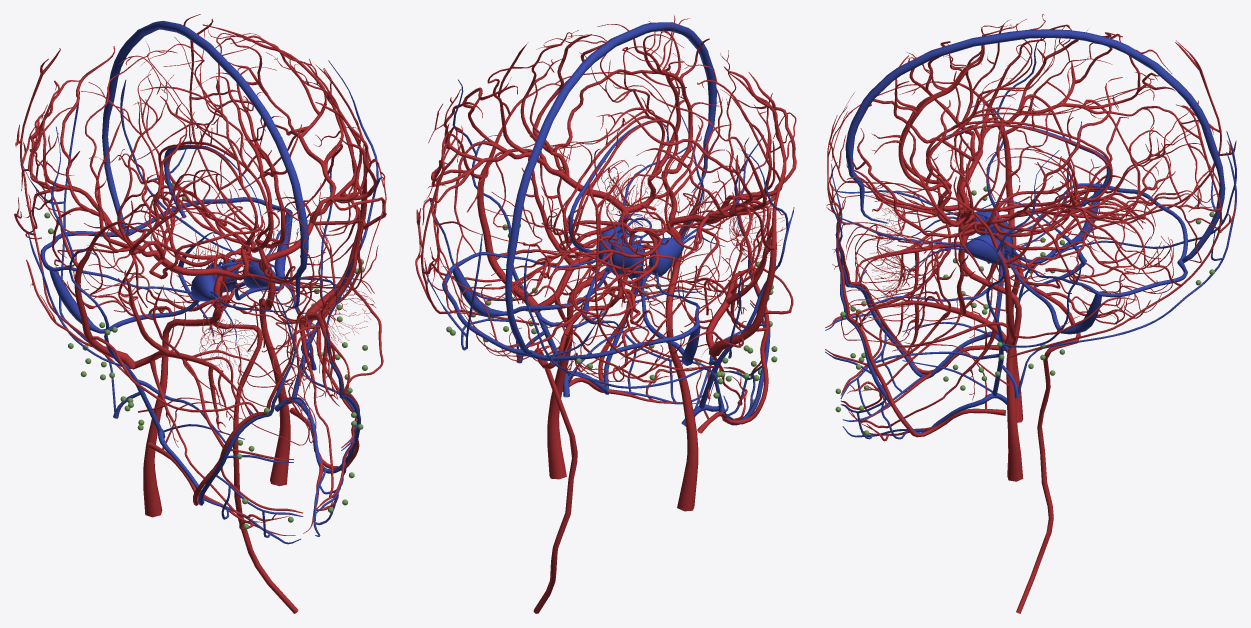
The model's file is vessels-head.glb.
3 renders of one model, left to right at view 1: azimuth 30°, elevation 25°; view 2: azimuth 150°, elevation 25°; view 3: azimuth 270°, elevation 25°, orthographic. The views are drawn at different scales.
Parts seen in each view (by area): view 1: vessel-superior-sagittal-sinus, vessel-superficial-temporal-artery-r, vessel-internal-carotid-artery-r, vessel-internal-carotid-artery-l, vessel-vertebral-artery-l, vessel-pericallosal-artery-r, vessel-posterior-cerebral-artery-r, vessel-superficial-temporal-artery-l, vessel-pericallosal-artery-l, vessel-posterior-cerebral-artery-l, vessel-occipital-artery-r, vessel-occipital-artery-l (+41 smaller); view 2: vessel-superior-sagittal-sinus, vessel-superficial-temporal-artery-r, vessel-internal-carotid-artery-r, vessel-superficial-temporal-artery-l, vessel-vertebral-artery-l, vessel-internal-carotid-artery-l, vessel-pericallosal-artery-r, vessel-posterior-cerebral-artery-r, vessel-pericallosal-artery-l, vessel-occipital-artery-r, vessel-posterior-cerebral-artery-l, vessel-occipital-artery-l (+39 smaller); view 3: vessel-superior-sagittal-sinus, vessel-superficial-temporal-artery-l, vessel-internal-carotid-artery-l, vessel-vertebral-artery-l, vessel-pericallosal-artery-l, vessel-superficial-temporal-artery-r, vessel-pericallosal-artery-r, vessel-posterior-cerebral-artery-l, vessel-occipital-artery-l, vessel-posterior-cerebral-artery-r, vessel-callosomarginal-artery-l, vessel-occipital-artery-r (+25 smaller).
Part boxes in pixels (x1=…): vessel-superior-sagittal-sinus: x1=102, y1=20, x2=308, y2=308; vessel-superficial-temporal-artery-r: x1=25, y1=108, x2=172, y2=368; vessel-internal-carotid-artery-r: x1=143, y1=276, x2=223, y2=517; vessel-internal-carotid-artery-l: x1=259, y1=267, x2=290, y2=486; vessel-vertebral-artery-l: x1=211, y1=301, x2=298, y2=613; vessel-pericallosal-artery-r: x1=118, y1=37, x2=257, y2=244; vessel-posterior-cerebral-artery-r: x1=84, y1=173, x2=227, y2=302; vessel-superficial-temporal-artery-l: x1=275, y1=59, x2=383, y2=325; vessel-pericallosal-artery-l: x1=147, y1=29, x2=269, y2=239; vessel-posterior-cerebral-artery-l: x1=192, y1=169, x2=325, y2=263; vessel-occipital-artery-r: x1=14, y1=48, x2=128, y2=377; vessel-occipital-artery-l: x1=160, y1=14, x2=306, y2=339; vessel-superior-sagittal-sinus: x1=505, y1=22, x2=716, y2=355; vessel-superficial-temporal-artery-r: x1=683, y1=89, x2=793, y2=356; vessel-internal-carotid-artery-r: x1=666, y1=226, x2=698, y2=511; vessel-superficial-temporal-artery-l: x1=424, y1=42, x2=560, y2=312; vessel-vertebral-artery-l: x1=533, y1=295, x2=621, y2=613; vessel-internal-carotid-artery-l: x1=547, y1=218, x2=629, y2=479; vessel-pericallosal-artery-r: x1=551, y1=46, x2=678, y2=248; vessel-posterior-cerebral-artery-r: x1=598, y1=164, x2=733, y2=319; vessel-pericallosal-artery-l: x1=522, y1=34, x2=664, y2=242; vessel-occipital-artery-r: x1=564, y1=161, x2=714, y2=371; vessel-posterior-cerebral-artery-l: x1=486, y1=160, x2=632, y2=300; vessel-occipital-artery-l: x1=415, y1=125, x2=539, y2=325; vessel-superior-sagittal-sinus: x1=845, y1=29, x2=1225, y2=262; vessel-superficial-temporal-artery-l: x1=899, y1=105, x2=1136, y2=347; vessel-internal-carotid-artery-l: x1=958, y1=235, x2=1023, y2=481; vessel-vertebral-artery-l: x1=1016, y1=268, x2=1080, y2=613; vessel-pericallosal-artery-l: x1=926, y1=40, x2=1154, y2=201; vessel-superficial-temporal-artery-r: x1=899, y1=20, x2=1136, y2=265; vessel-pericallosal-artery-r: x1=926, y1=14, x2=1154, y2=190; vessel-posterior-cerebral-artery-l: x1=985, y1=156, x2=1160, y2=283; vessel-occipital-artery-l: x1=1007, y1=104, x2=1236, y2=358; vessel-posterior-cerebral-artery-r: x1=986, y1=148, x2=1160, y2=216; vessel-callosomarginal-artery-l: x1=871, y1=46, x2=984, y2=194; vessel-occipital-artery-r: x1=1010, y1=40, x2=1236, y2=278.
Bounding box in the file's own units: 0.1577 × 0.2808 × 0.1917.
